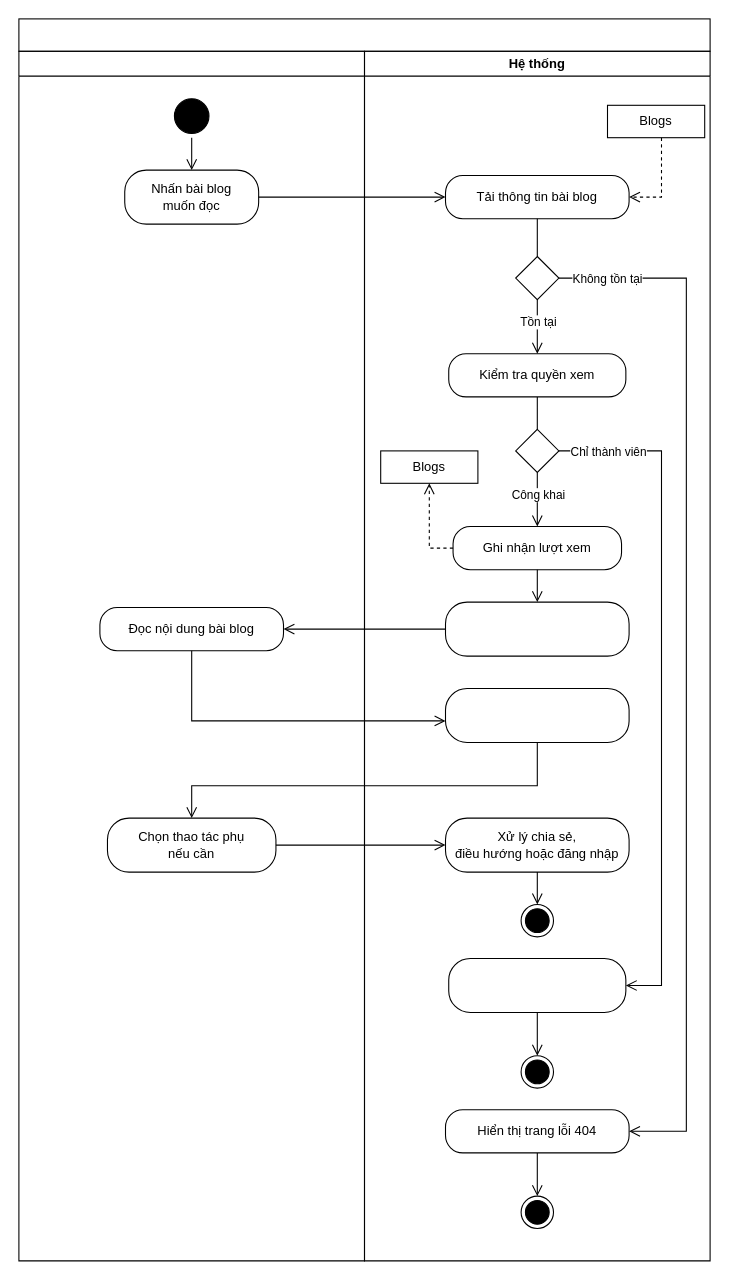
Image size: 729x1280. Some labels were removed from this diagram. Each missing label, with the box of its shape:
Hiển thị lỗi không có quyền xem: (448, 957, 626, 1013)
Hiển thị nội dung và thông tin bài viết: (444, 601, 629, 656)
Hiển thị tác giả, bình luận, bài liên quan: (444, 687, 629, 742)
Khách: (18, 50, 364, 1261)
XEM CHI TIẾT BLOG: (18, 18, 710, 51)
